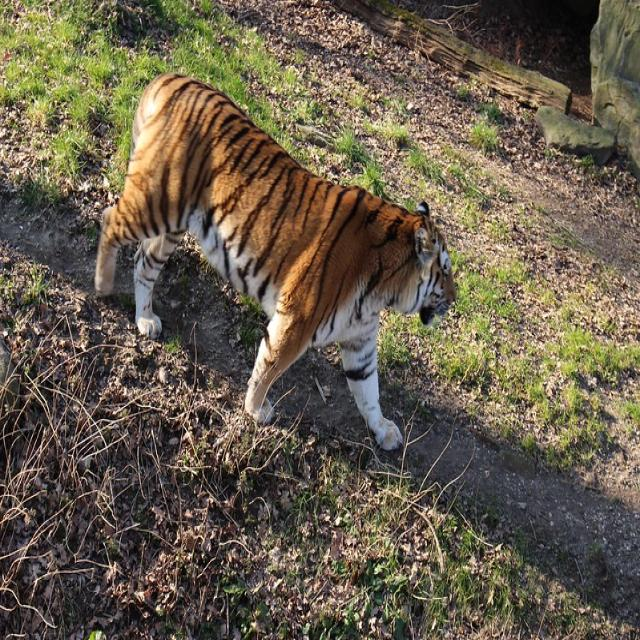Tiger: (90, 70, 458, 452)
